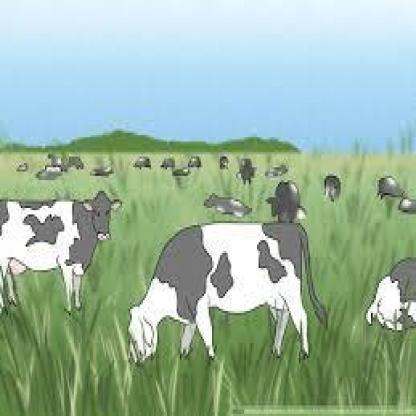cow: (128, 221, 328, 367), (0, 190, 122, 314), (366, 258, 416, 332), (265, 180, 308, 223), (203, 192, 255, 218), (376, 175, 406, 200), (322, 174, 341, 204), (48, 153, 68, 173), (37, 165, 63, 180), (241, 158, 254, 188), (264, 162, 289, 177), (398, 198, 416, 216), (236, 166, 259, 179), (89, 165, 115, 176), (133, 156, 153, 170), (66, 156, 85, 170), (186, 156, 202, 170), (160, 158, 176, 170), (173, 166, 190, 177), (219, 156, 230, 170), (16, 162, 29, 173)
